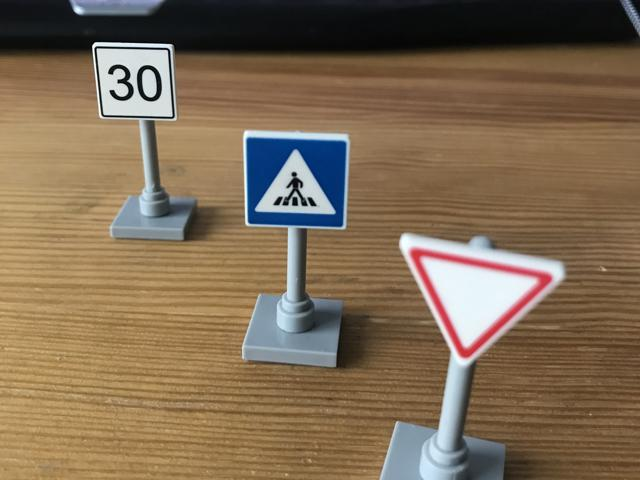fußgängerüberweg: (241, 131, 352, 229)
tempolimit 30: (90, 40, 178, 121)
vorfahrt gewähren: (396, 233, 567, 366)
